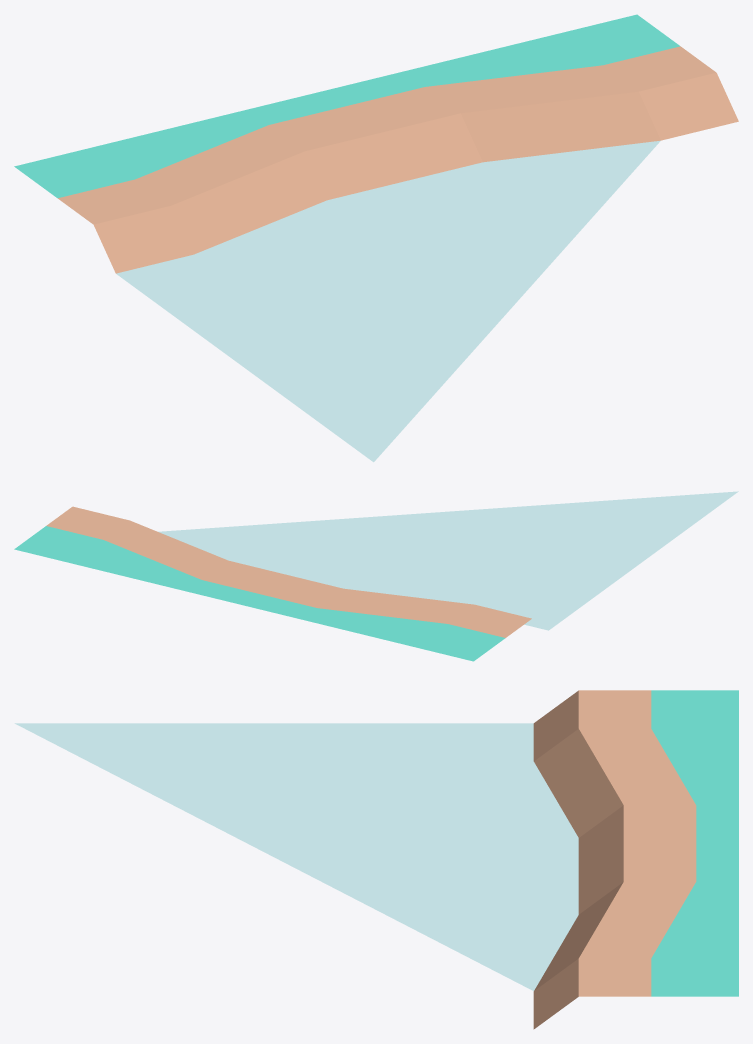
Rendered from ground_riverSide.glb.
3 views of the same model, one above another, from view 1: azimuth 30°, elevation 25°; view 2: azimuth 150°, elevation 25°; view 3: azimuth 270°, elevation 25° (orthographic). The views are drawn at different scales.
Parts seen in each view (by area): view 1: ground_riverSide; view 2: ground_riverSide; view 3: ground_riverSide.
Part boxes in pixels (x1,y1,x2,y2): ground_riverSide: (14, 14, 738, 462); ground_riverSide: (14, 491, 738, 661); ground_riverSide: (14, 690, 738, 1029).
Size of the model in its own units: 1 by 0.0501 by 1.
